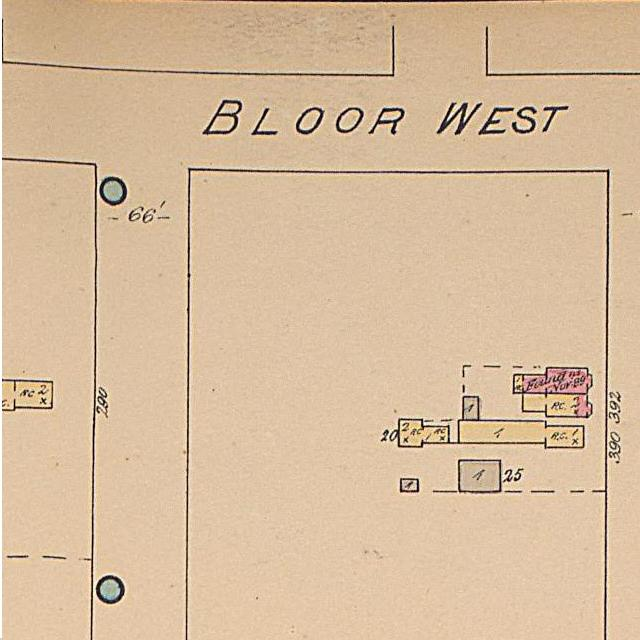building-footprints: (459, 420, 585, 448), (514, 368, 592, 394), (523, 393, 592, 417), (2, 380, 52, 410), (399, 419, 449, 447), (459, 460, 500, 492), (462, 396, 479, 420), (401, 478, 419, 491)
